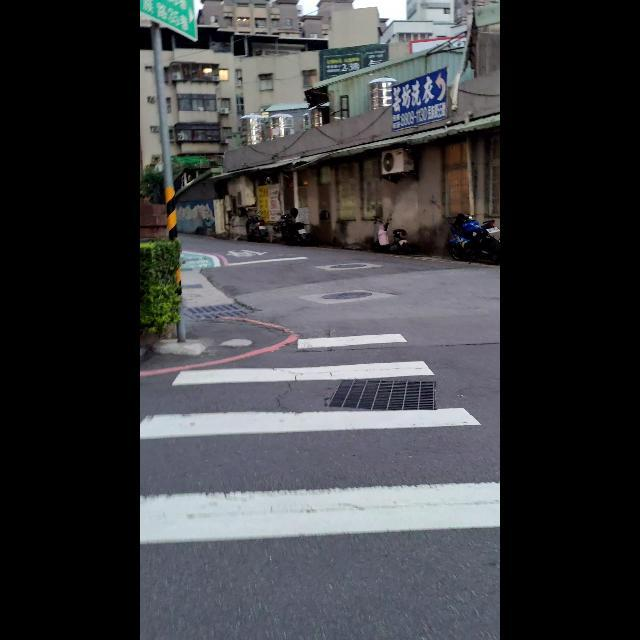sidewalk: (140, 334, 500, 640)
